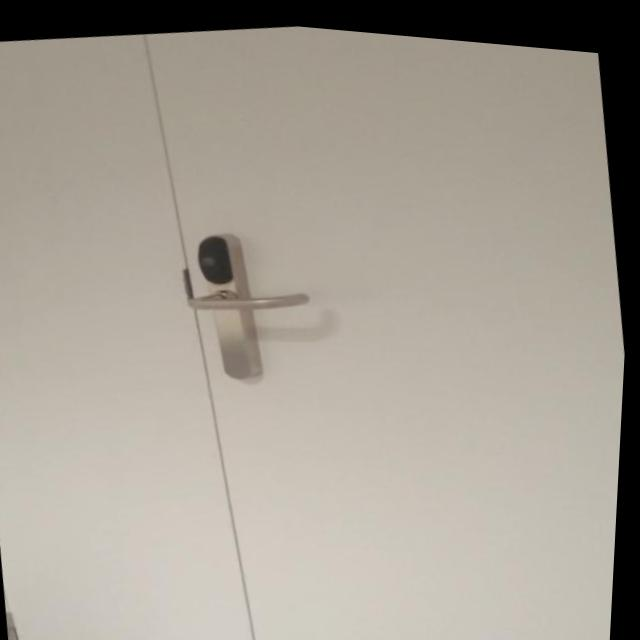door_handle: (183, 267, 325, 322)
